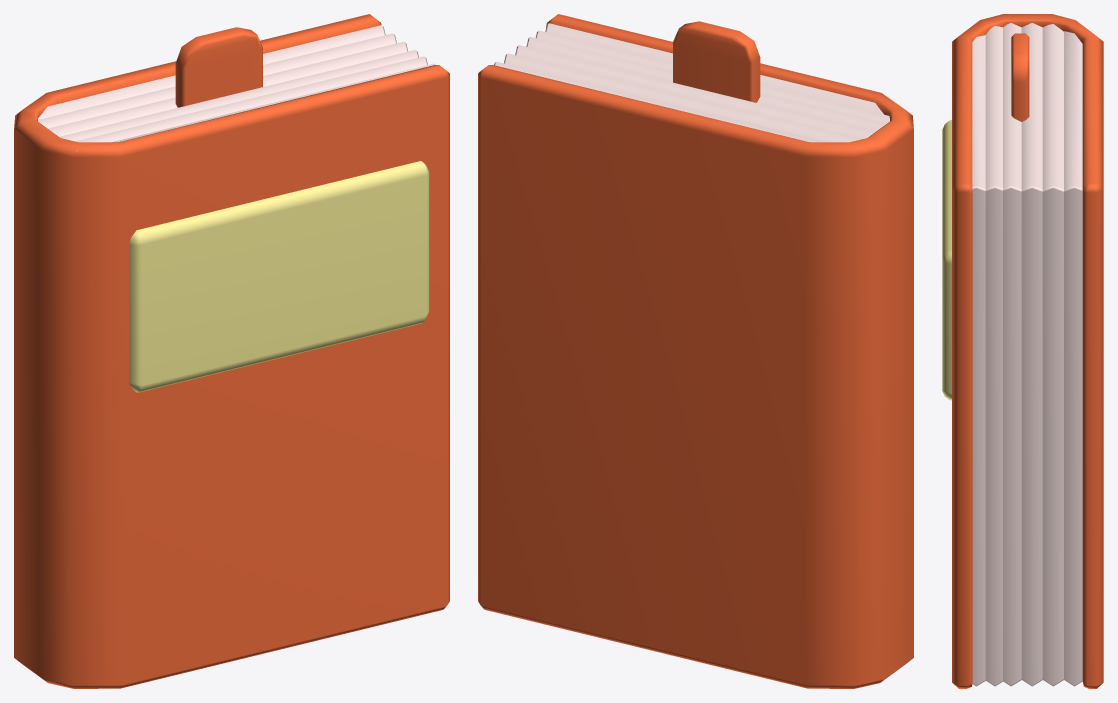
Rendered from Public_8_Book_6.glb.
3 renders of one model, left to right at view 1: azimuth 30°, elevation 25°; view 2: azimuth 150°, elevation 25°; view 3: azimuth 270°, elevation 25°, orthographic. The views are drawn at different scales.
Parts seen in each view (by area): view 1: Public_8_Book_6; view 2: Public_8_Book_6; view 3: Public_8_Book_6.
Boxes of the visible parts, <box> form: Public_8_Book_6: <box>14,14,449,688</box>; Public_8_Book_6: <box>478,14,913,688</box>; Public_8_Book_6: <box>942,14,1103,688</box>.
Bounding box in the file's own units: 1.03 × 1.53 × 0.4015.
1 material, 1 textured.
